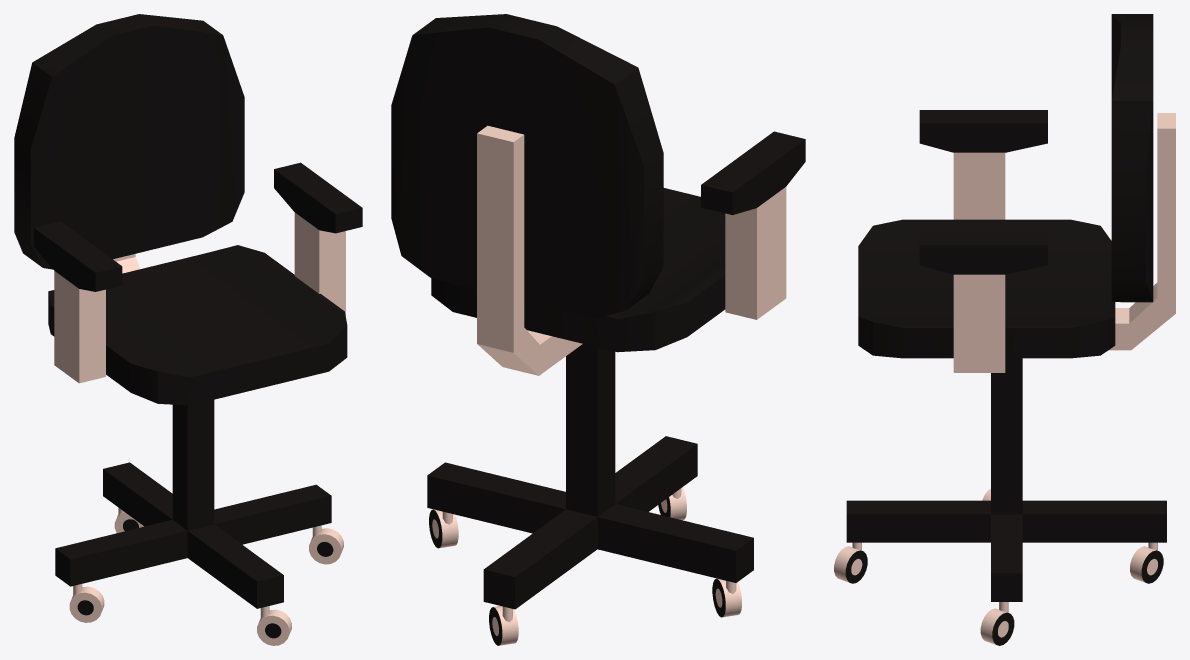
The model's file is BoardRoom_Chair.FBX.
The picture shows the model from 3 angles, left to right: view 1: azimuth 30°, elevation 25°; view 2: azimuth 150°, elevation 25°; view 3: azimuth 270°, elevation 25°; orthographic projection. The views are drawn at different scales.
Visible parts, largest first — view 1: BoardRoom_Chair_001; view 2: BoardRoom_Chair_001; view 3: BoardRoom_Chair_001.
Boxes of the visible parts, x1=… form: BoardRoom_Chair_001: x1=14, y1=14, x2=362, y2=645; BoardRoom_Chair_001: x1=391, y1=14, x2=805, y2=645; BoardRoom_Chair_001: x1=834, y1=14, x2=1175, y2=645.
Bounding box in the file's own units: 0.5297 × 0.9295 × 0.5324.
